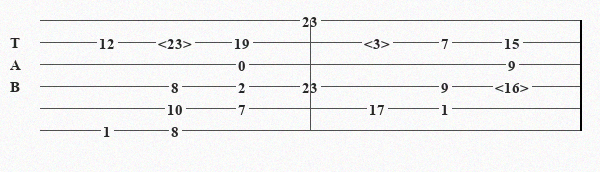0: (238, 57, 250, 71)
1: (103, 123, 115, 137), (441, 101, 453, 115)
10: (167, 101, 187, 115)
12: (99, 35, 119, 49)
15: (504, 35, 524, 49)
17: (369, 101, 389, 115)
19: (234, 35, 254, 49)
2: (238, 79, 250, 93)
23: (302, 13, 322, 27), (302, 79, 322, 93)
7: (238, 101, 250, 115), (441, 35, 453, 49)
8: (171, 123, 183, 137), (171, 79, 183, 93)
9: (441, 79, 453, 93), (508, 57, 520, 71)
harmonic: (158, 35, 196, 49), (495, 79, 533, 93), (364, 35, 394, 49)
